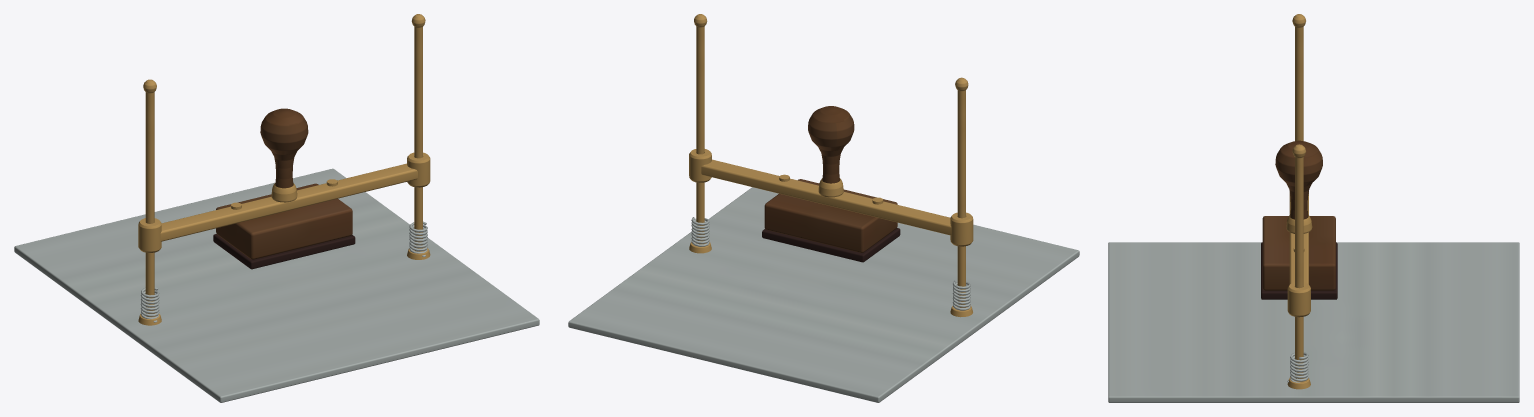
Rendered from press.glb.
The picture shows the model from 3 angles, left to right: view 1: azimuth 30°, elevation 25°; view 2: azimuth 150°, elevation 25°; view 3: azimuth 270°, elevation 25°; orthographic projection. The views are drawn at different scales.
Visible parts, largest first — view 1: office_press_steel, stamp_brass, block_wood, office_press_brass, handle_wood, pad_rubber, spring_right_wire, spring_left_wire; view 2: office_press_steel, stamp_brass, block_wood, office_press_brass, handle_wood, pad_rubber, spring_right_wire, spring_left_wire; view 3: office_press_steel, block_wood, office_press_brass, handle_wood, stamp_brass, pad_rubber, spring_right_wire.
Boxes of the visible parts, <box> form: office_press_steel: <box>14,168,539,402</box>; stamp_brass: <box>138,152,430,252</box>; block_wood: <box>216,183,352,259</box>; office_press_brass: <box>138,14,430,325</box>; handle_wood: <box>260,108,308,188</box>; pad_rubber: <box>213,234,355,269</box>; spring_right_wire: <box>409,221,427,253</box>; spring_left_wire: <box>140,287,159,319</box>; office_press_steel: <box>568,187,1079,402</box>; stamp_brass: <box>689,149,973,246</box>; block_wood: <box>764,179,897,252</box>; office_press_brass: <box>689,14,972,317</box>; handle_wood: <box>808,106,854,183</box>; pad_rubber: <box>762,228,900,262</box>; spring_right_wire: <box>691,217,709,246</box>; spring_left_wire: <box>952,280,970,310</box>; office_press_steel: <box>1108,242,1519,402</box>; block_wood: <box>1262,216,1335,290</box>; office_press_brass: <box>1287,14,1310,389</box>; handle_wood: <box>1275,140,1322,219</box>; stamp_brass: <box>1287,192,1310,317</box>; pad_rubber: <box>1261,242,1337,299</box>; spring_right_wire: <box>1290,352,1308,382</box>.
Bounding box in the file's own units: 0.5 × 0.3695 × 0.56.
4 materials, 3 textured.
